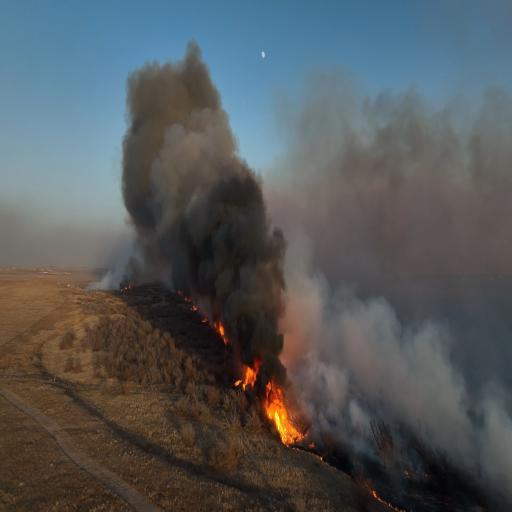fire: (268, 392, 302, 442)
smoke: (351, 101, 512, 269), (134, 49, 222, 206), (160, 120, 254, 256), (193, 186, 287, 318)
